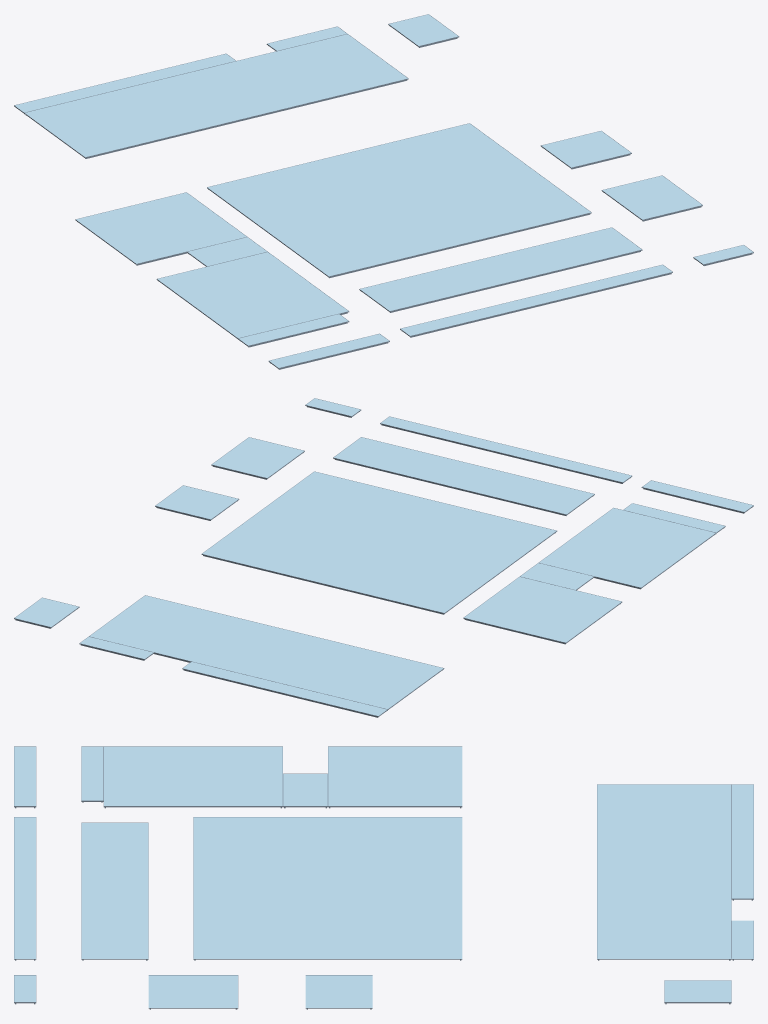
The model's file is SM_MPRR_SolarBank_01_1.fbx.
3 renders of one model, top to bottom at view 1: azimuth 30°, elevation 25°; view 2: azimuth 150°, elevation 25°; view 3: azimuth 270°, elevation 25°, orthographic. The views are drawn at different scales.
Visible parts, largest first — view 1: SM_MPRR_SolarBank_01_1; view 2: SM_MPRR_SolarBank_01_1; view 3: SM_MPRR_SolarBank_01_1.
Part boxes in pixels (<box>): SM_MPRR_SolarBank_01_1: <box>14,14,753,369</box>; SM_MPRR_SolarBank_01_1: <box>14,398,753,717</box>; SM_MPRR_SolarBank_01_1: <box>14,746,753,1009</box>.
Bounding box in the file's own units: 5376 × 6435 × 24.6.
